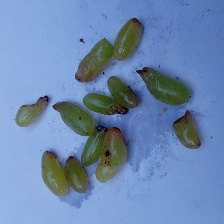grapes: (60, 24, 194, 224)
